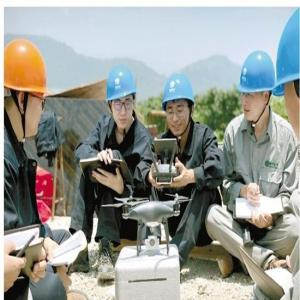blue: (239, 49, 276, 126), (106, 65, 138, 129), (164, 72, 196, 136)
yellow: (6, 40, 47, 139)
